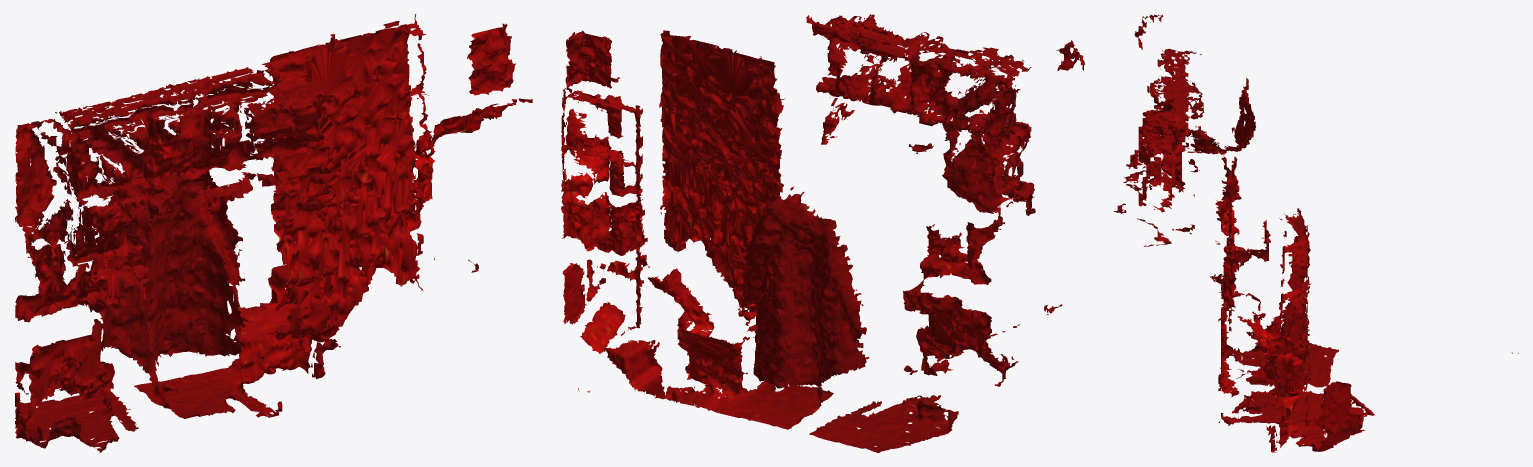
File: mesh_iter_0001.obj
3 renders of one model, left to right at view 1: azimuth 30°, elevation 25°; view 2: azimuth 150°, elevation 25°; view 3: azimuth 270°, elevation 25°, orthographic. The views are drawn at different scales.
Bounding box in the file's own units: 3.02 × 2.14 × 2.54.
